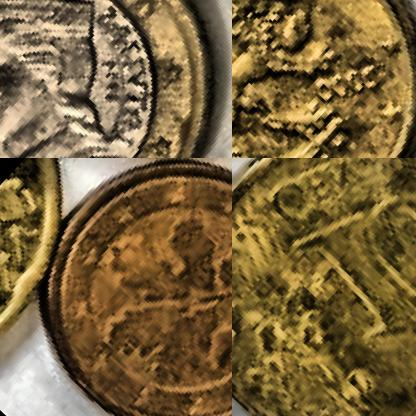coin: (0, 158, 231, 415), (232, 158, 415, 415), (0, 0, 231, 157), (232, 0, 415, 157)
